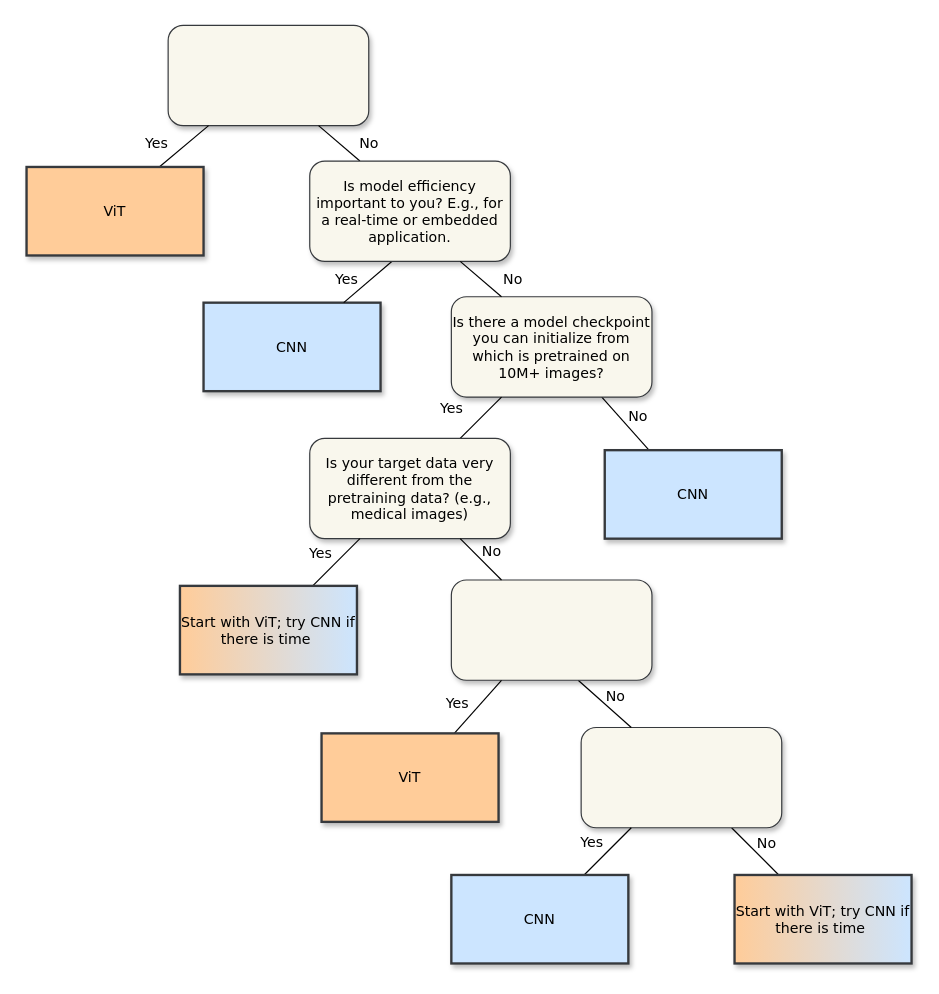
The diagram is 939 pixels wide and 994 high, and some of its shapes have lost their labels. Here are the shapes that lost their labels. From the top down, the centre of each, then its label:
At point 269,76: "Are you training on a very large dataset (10M+ images?)".
At point 552,631: "At deployment time, is data drift likely?".
At point 682,779: "Are you in a hurry and want to get to a solution as quickly as possible?".
